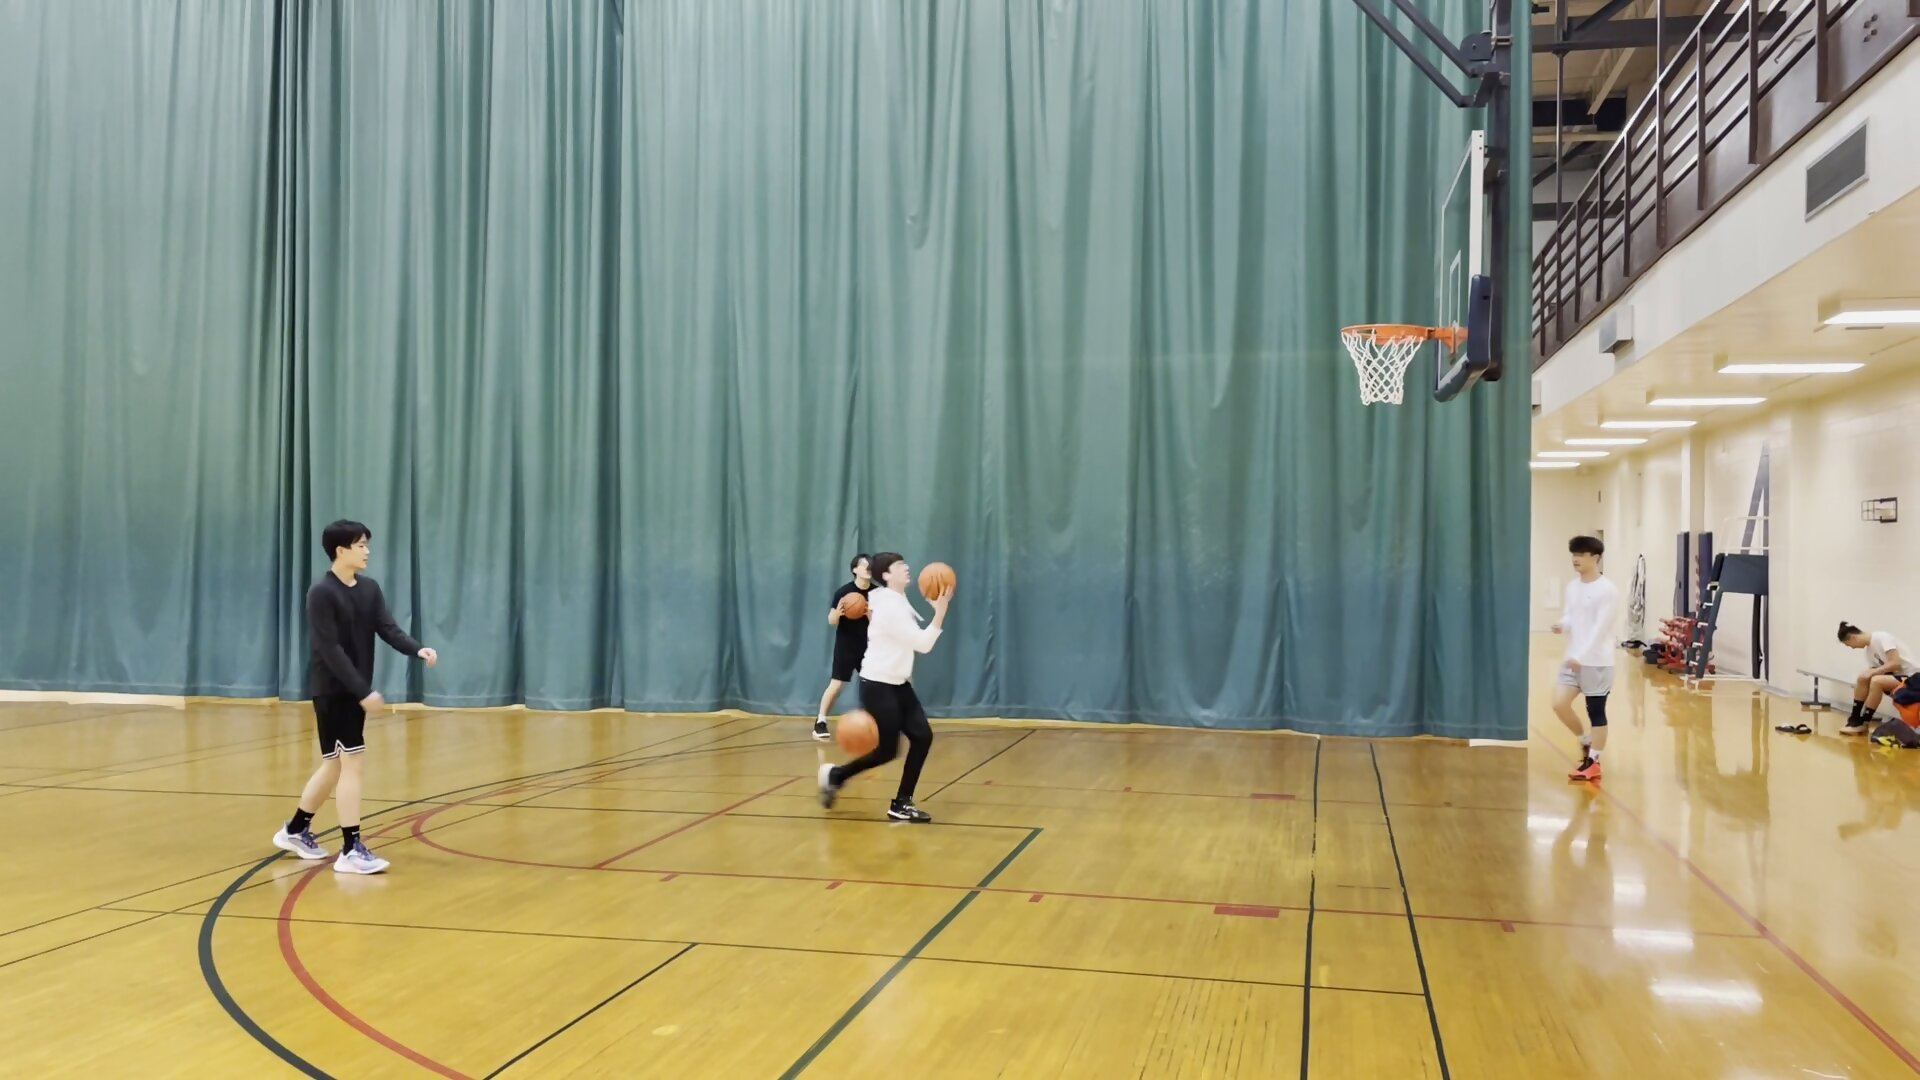ball: (835, 710, 878, 753), (916, 562, 957, 606), (838, 591, 865, 624)
net: (1351, 383, 1411, 410)
player: (273, 519, 429, 883), (825, 553, 939, 817), (1545, 536, 1624, 788), (819, 553, 876, 745), (1833, 617, 1920, 741)
rim: (1336, 321, 1434, 348)
